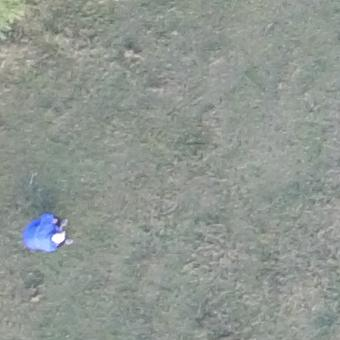human: (20, 211, 75, 254)
